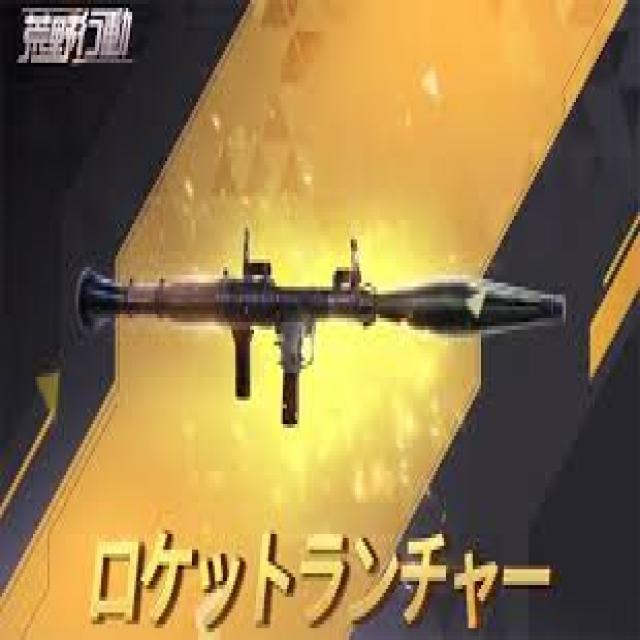bazooka: (60, 150, 592, 513)
